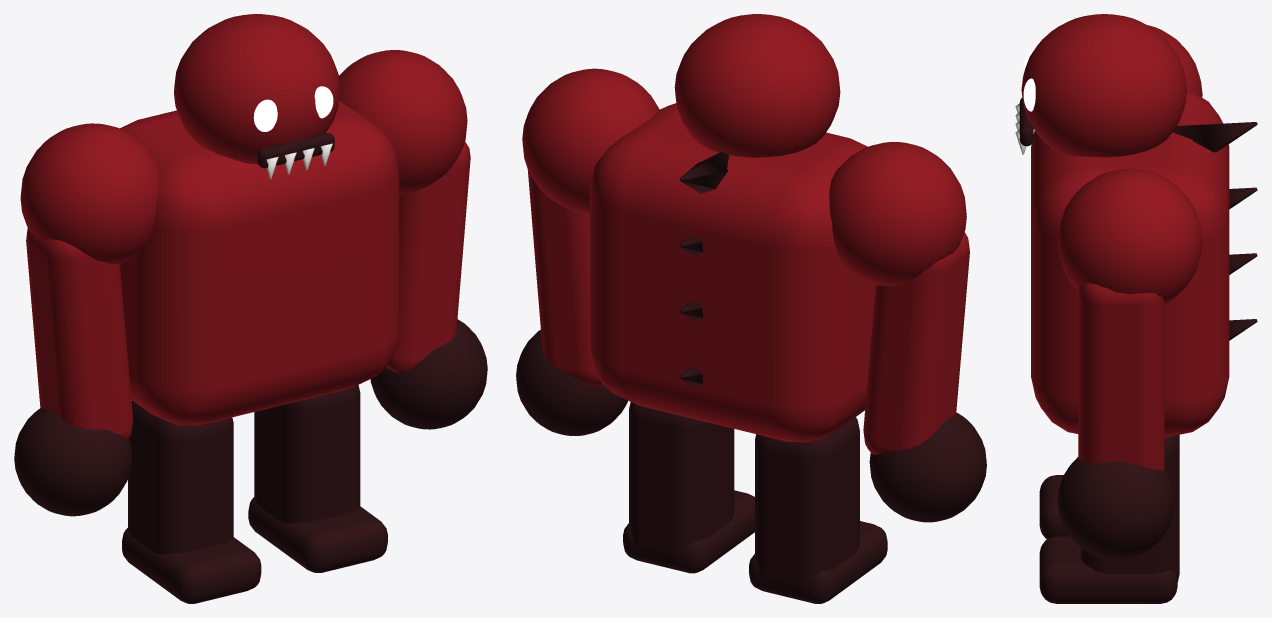
File: kaempe.glb
3 views of the same model, side by side, from view 1: azimuth 30°, elevation 25°; view 2: azimuth 150°, elevation 25°; view 3: azimuth 270°, elevation 25° (orthographic).
Visible parts, largest first — view 1: krop_net, armV_net, benV_net, armH_net, benH_net; view 2: krop_net, armV_net, benV_net, benH_net, armH_net; view 3: krop_net, armH_net, benH_net, benV_net.
Part boxes in pixels (x1,y1,x2,y2): krop_net: (20,14,467,425); armV_net: (14,228,133,516); benV_net: (122,400,261,603); armH_net: (370,141,487,429); benH_net: (248,385,387,572); krop_net: (522,14,966,442); armV_net: (863,232,986,522); benV_net: (749,417,887,603); benH_net: (623,402,754,573); armH_net: (516,169,627,435); krop_net: (1015,14,1257,436); armH_net: (1057,283,1174,559); benH_net: (1039,434,1179,603); benV_net: (1039,475,1069,539).
Bounding box in the file's own units: 3.04 × 3.43 × 1.4.
